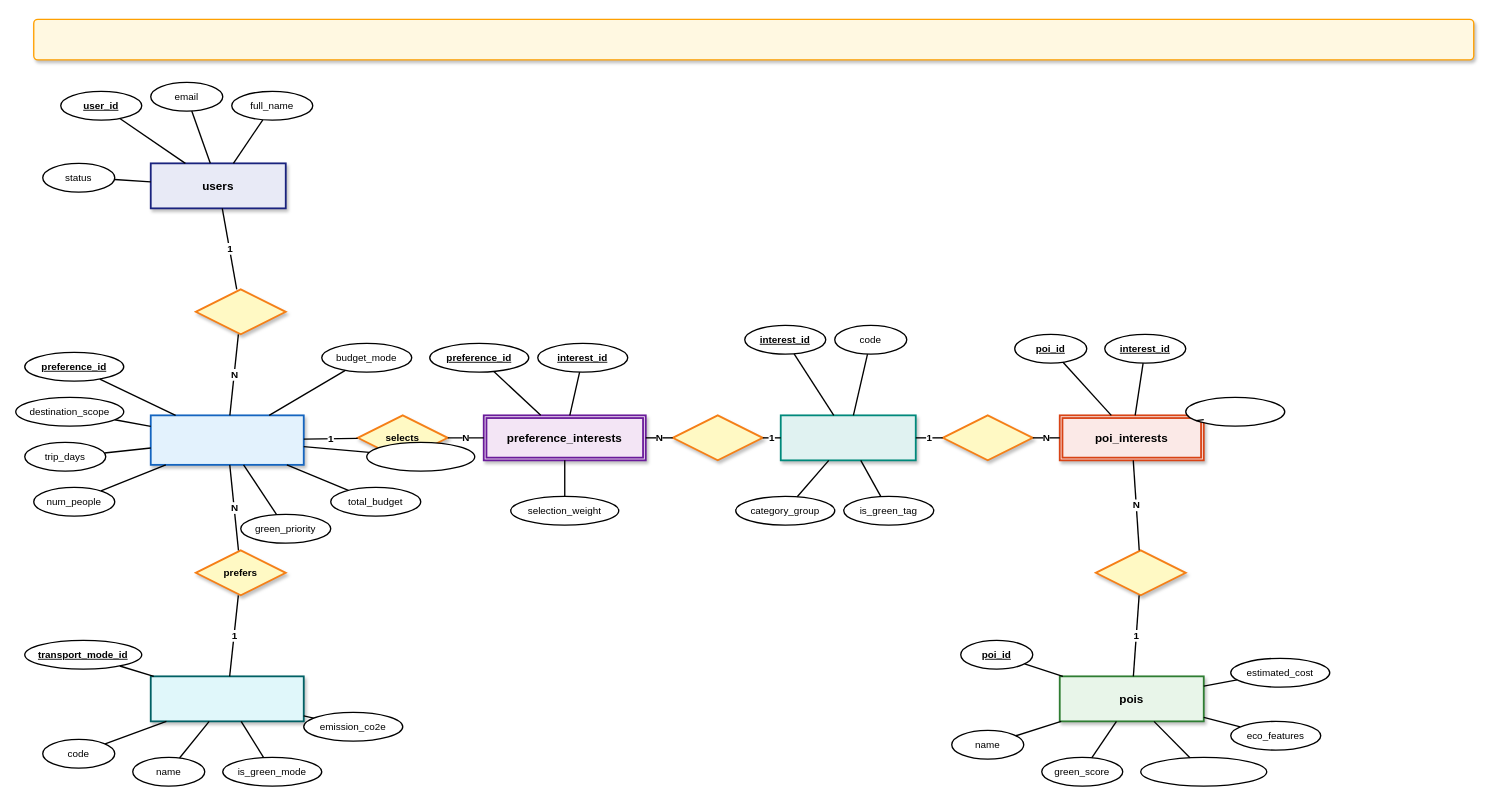
The diagram is 1496 pixels wide and 803 high, and some of its shapes have lost their labels. Here are the shapes that lost their labels. From the top down, the centre of each, then its label:
the point at 754,40: GreenTrip AI — Sprint 2: Entity Relationship Diagram (Chen Notation)
the point at 241,312: submits
the point at 1235,411: match_strength
the point at 228,441: trip_preferences
the point at 420,456: food_preferences
the point at 718,438: maps_to
the point at 849,438: interests
the point at 988,438: tagged_by
the point at 1141,573: describes
the point at 228,699: transport_modes
the point at 1203,771: is_vegetarian_friendly
